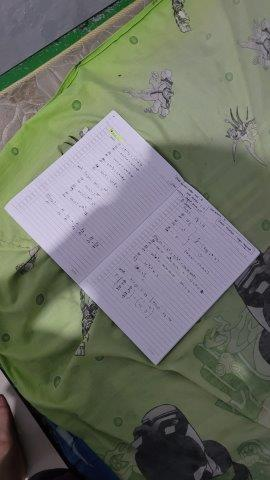kertas: (3, 110, 262, 364)
